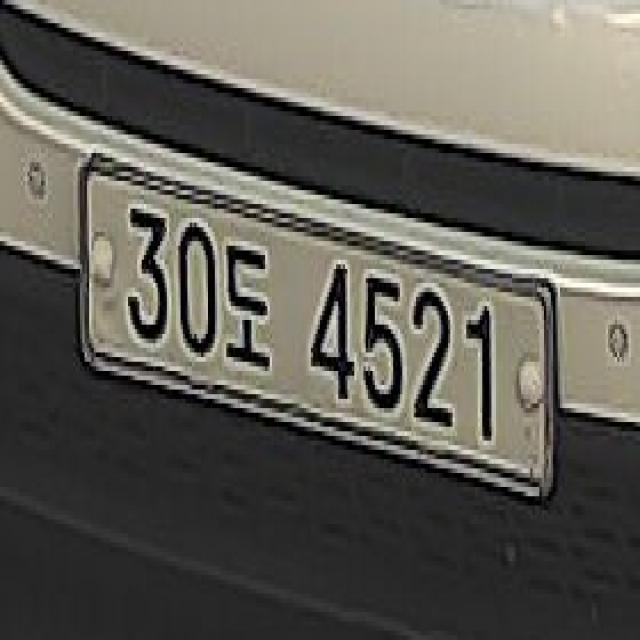0: (178, 218, 217, 357)
1: (466, 302, 496, 441)
2: (412, 283, 457, 436)
3: (126, 204, 171, 348)
4: (304, 251, 357, 404)
5: (364, 269, 404, 408)
do: (224, 237, 274, 381)
license_plate: (78, 144, 558, 515)
